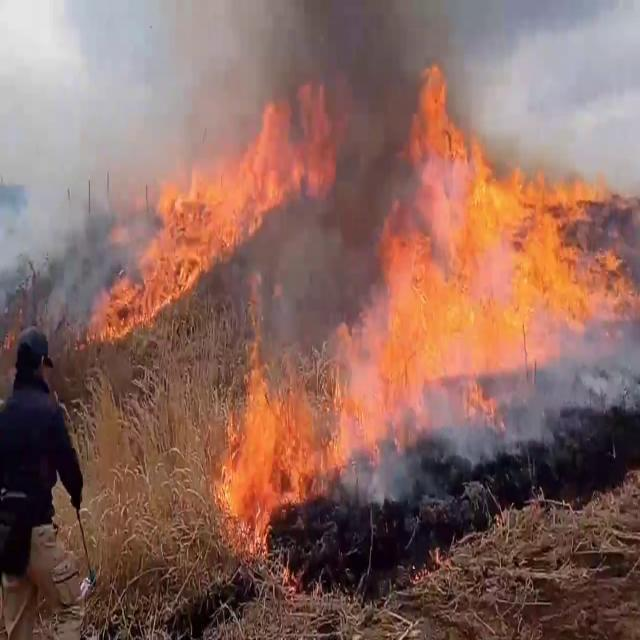Fire: (360, 51, 640, 417), (87, 78, 327, 340), (197, 290, 396, 544)
Smoke: (205, 0, 454, 259)
